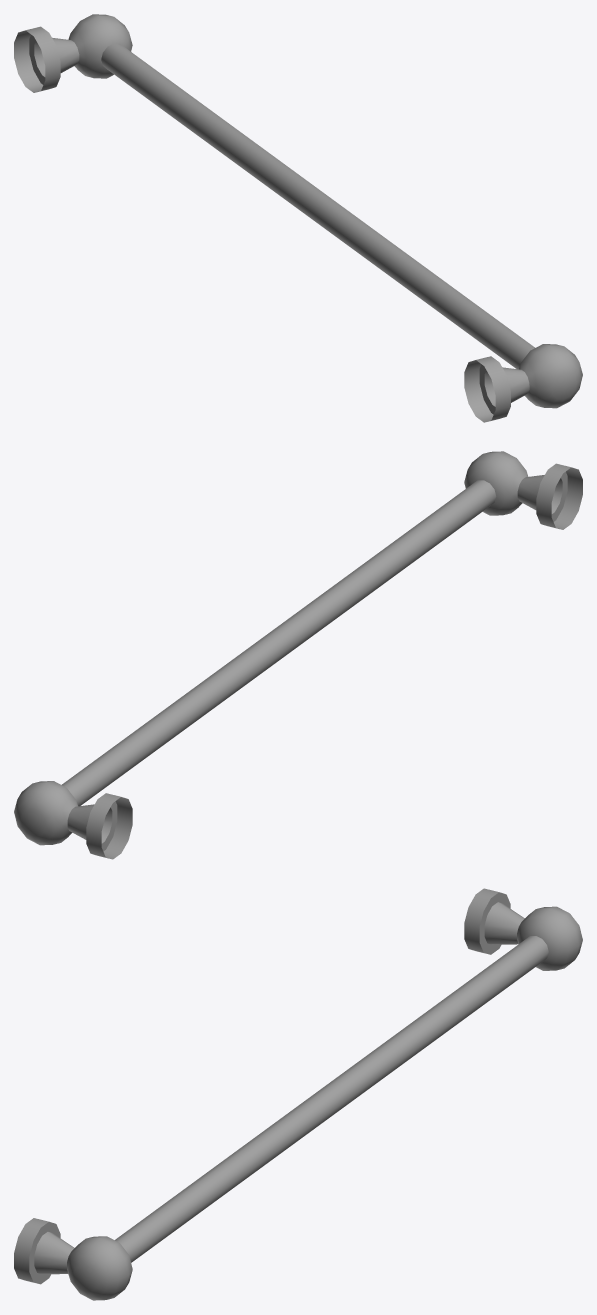
The model's file is SM_Towel_Rack.fbx.
3 renders of one model, top to bottom at view 1: azimuth 30°, elevation 25°; view 2: azimuth 150°, elevation 25°; view 3: azimuth 330°, elevation 25°, orthographic.
Visible parts, largest first — view 1: SM_Towel_Rack; view 2: SM_Towel_Rack; view 3: SM_Towel_Rack.
Boxes of the visible parts, bbox=[...] form: SM_Towel_Rack: bbox=[14, 14, 582, 422]; SM_Towel_Rack: bbox=[14, 451, 582, 859]; SM_Towel_Rack: bbox=[14, 888, 582, 1300].
Size of the model in its own units: 6.88 by 57.91 by 4.01.
Materials: 1 (1 with a texture image).
